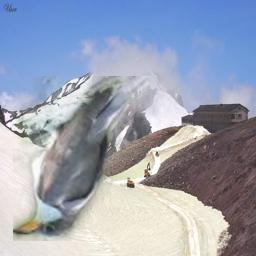Cuckoo: (13, 76, 150, 241)
